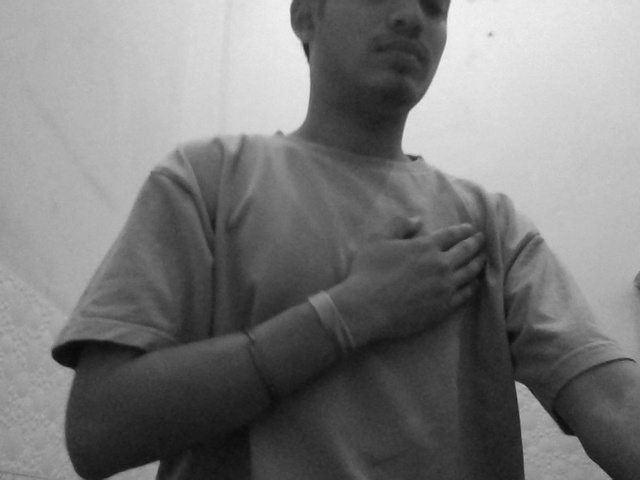Sorry: (306, 203, 545, 361)
